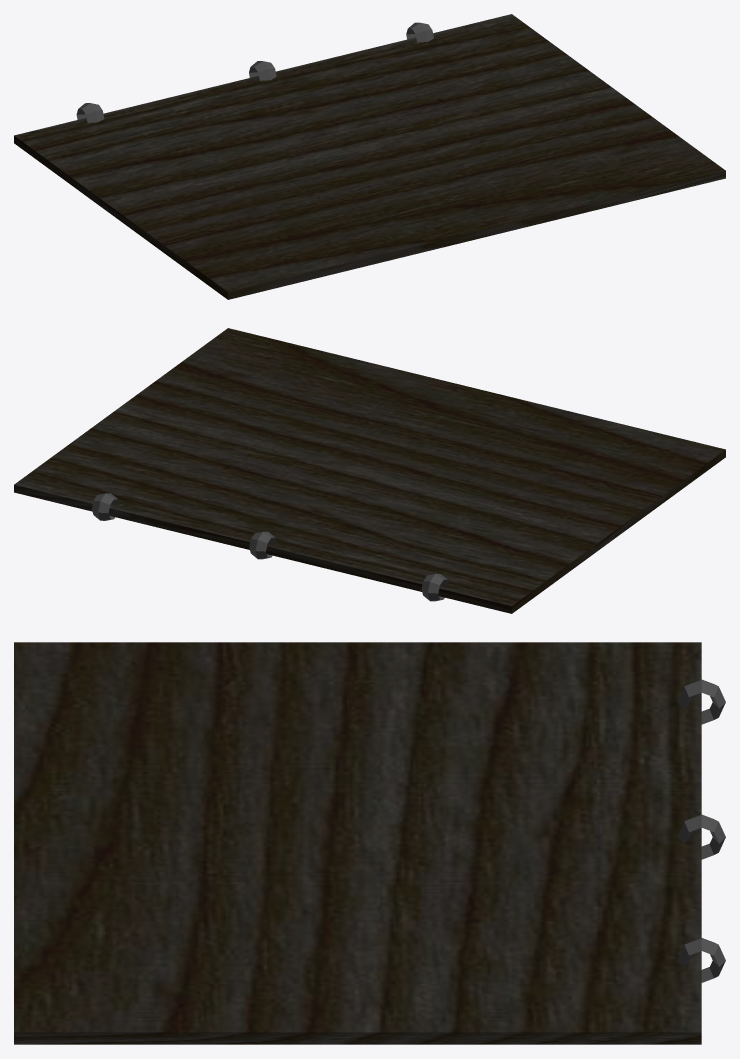
Rendered from animated_guestroom_table.gltf.
3 renders of one model, top to bottom at view 1: azimuth 30°, elevation 25°; view 2: azimuth 150°, elevation 25°; view 3: azimuth 270°, elevation 25°, orthographic. The views are drawn at different scales.
Visible parts, largest first — view 1: GuestroomTable; view 2: GuestroomTable; view 3: GuestroomTable.
Part boxes in pixels (bbox=[...]): GuestroomTable: bbox=[14, 14, 725, 299]; GuestroomTable: bbox=[14, 328, 725, 613]; GuestroomTable: bbox=[14, 642, 725, 1044].
Bounding box in the file's own units: 0.6721 × 0.0355 × 0.5184.
2 materials, 1 textured.
